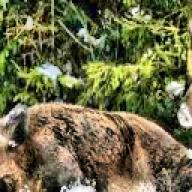boar: (0, 100, 192, 192)
